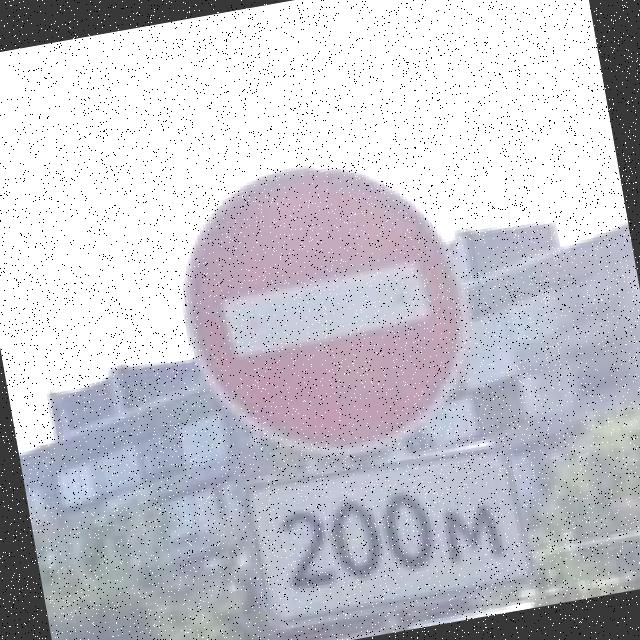Zakaz wjazdu: (158, 138, 490, 482)
